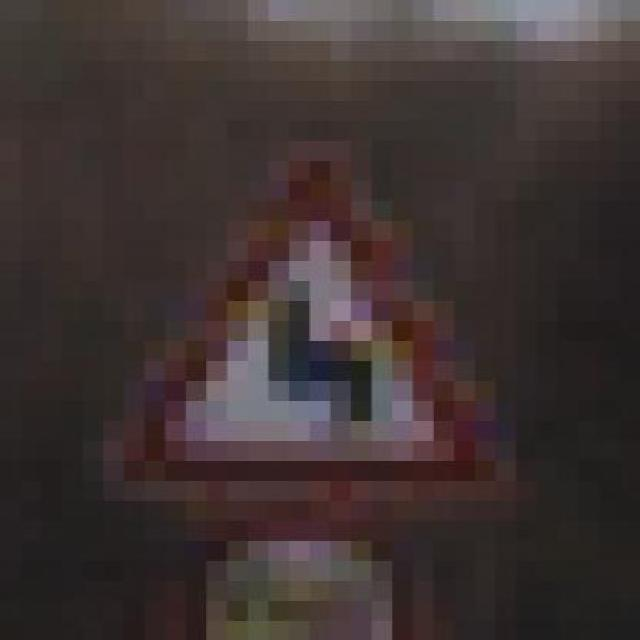Left Zig Zag Traffic: (103, 140, 517, 520)
